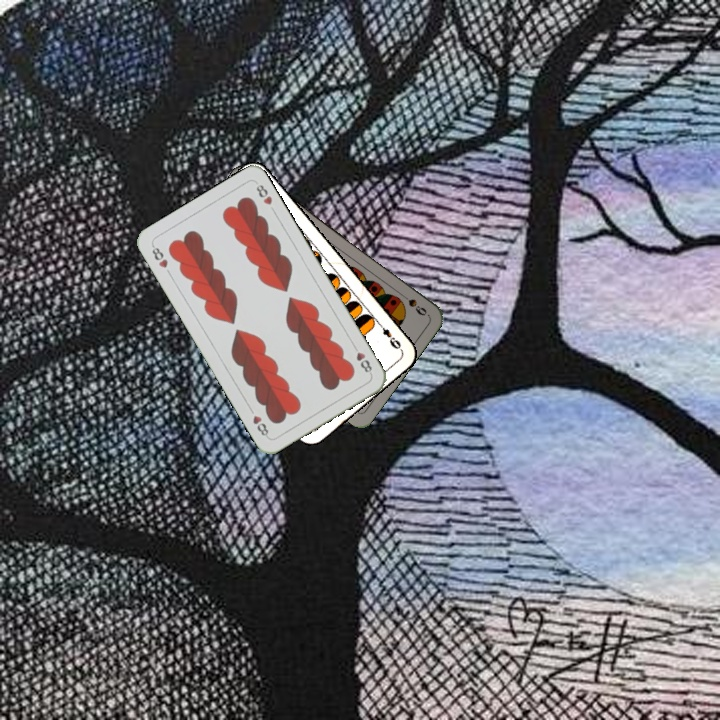E9: (374, 319, 404, 353)
H8: (348, 340, 375, 377), (148, 241, 170, 271)
S9: (395, 289, 429, 318)
